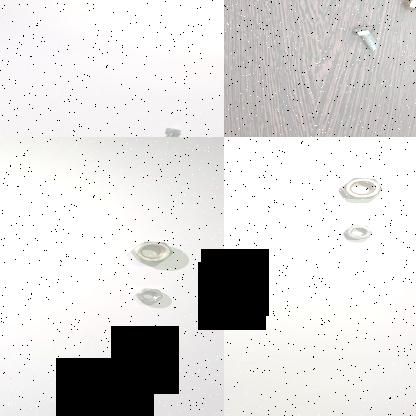Bolts: (352, 20, 383, 52), (152, 122, 186, 137)
NUTS: (333, 172, 389, 208), (128, 237, 177, 265), (338, 219, 380, 245), (135, 286, 165, 304)
